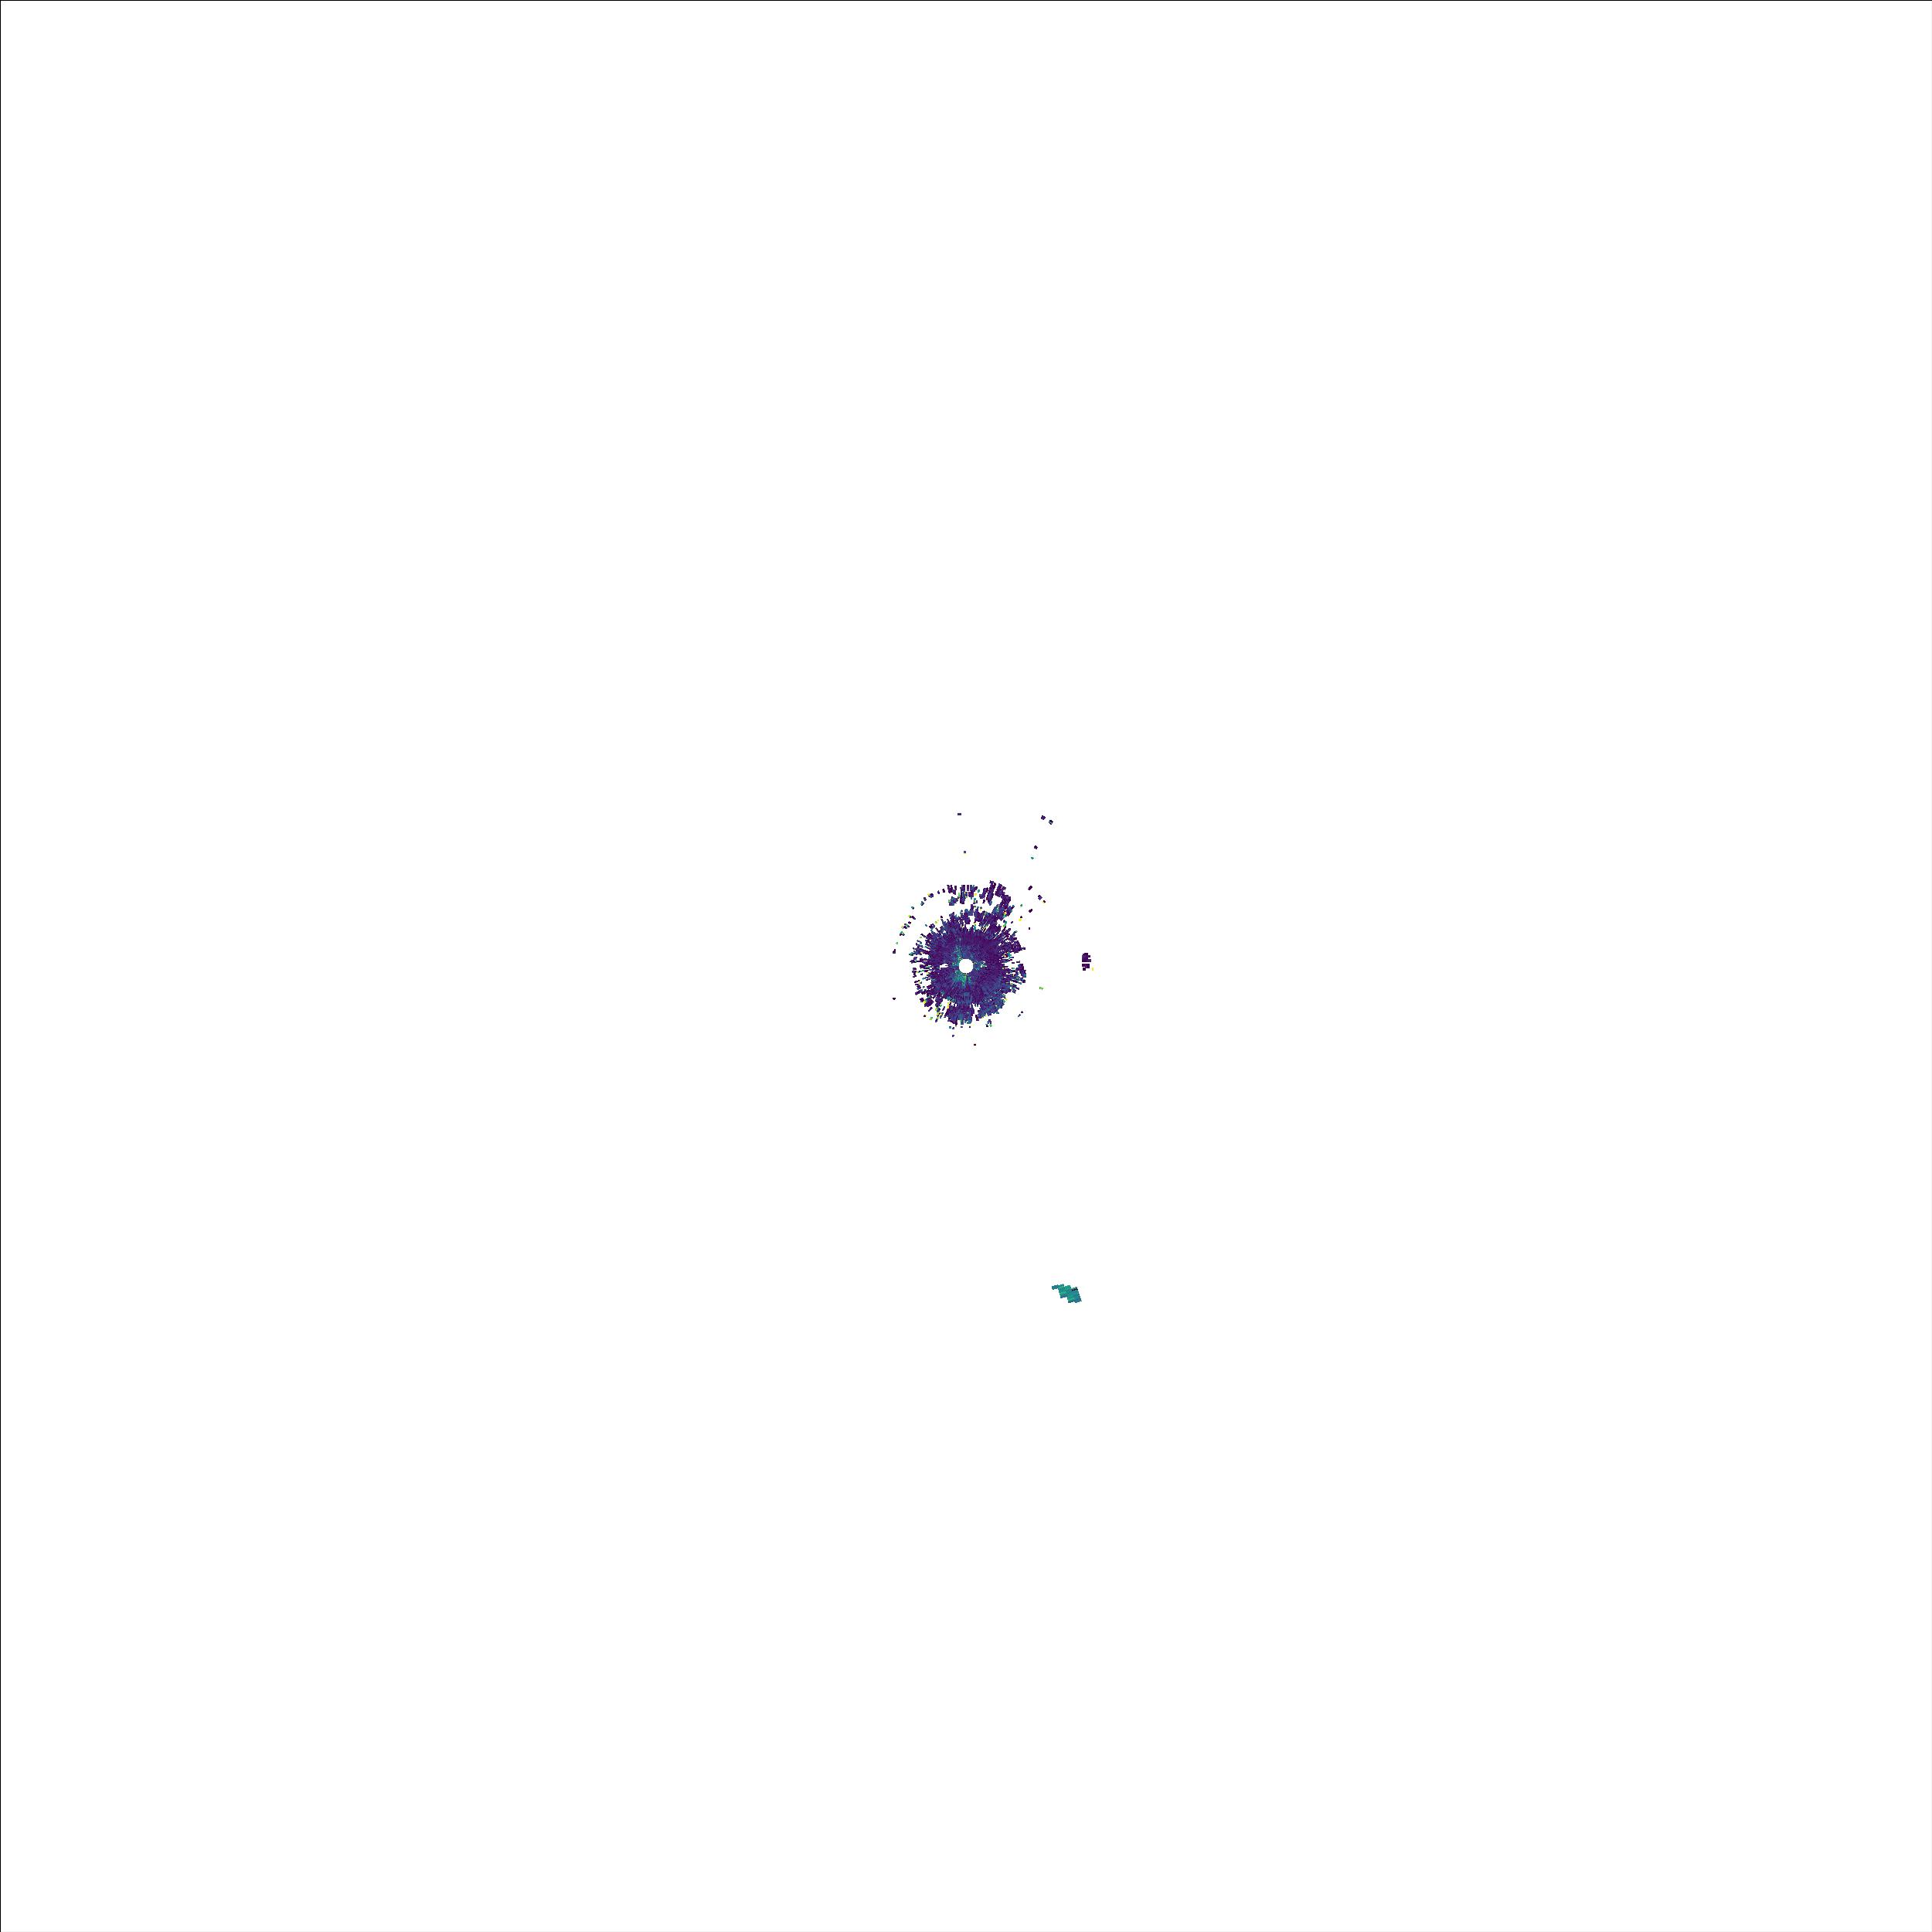fall: (1047, 1276, 1086, 1309)
